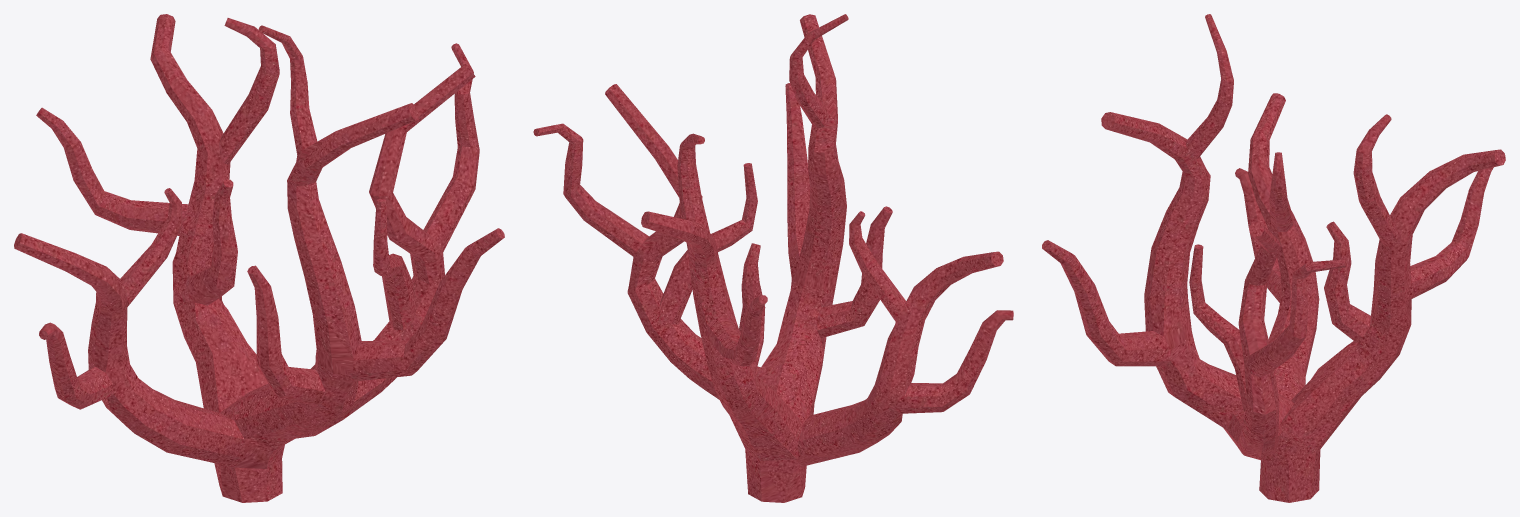
Rendered from coral_tree.glb.
3 renders of one model, left to right at view 1: azimuth 30°, elevation 25°; view 2: azimuth 150°, elevation 25°; view 3: azimuth 270°, elevation 25°, orthographic. The views are drawn at different scales.
Parts seen in each view (by area): view 1: defaultMaterial; view 2: defaultMaterial; view 3: defaultMaterial.
Boxes of the visible parts, box(x1,y1,x2,y2) form: defaultMaterial: box(14, 14, 504, 502); defaultMaterial: box(533, 14, 1013, 502); defaultMaterial: box(1042, 14, 1505, 502).
Bounding box in the file's own units: 17.03 × 17.01 × 15.48.
1 material, 1 textured.
